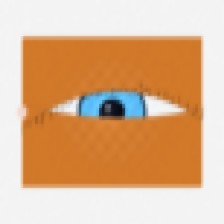pinguecula_lesion: (45, 92, 79, 119)
